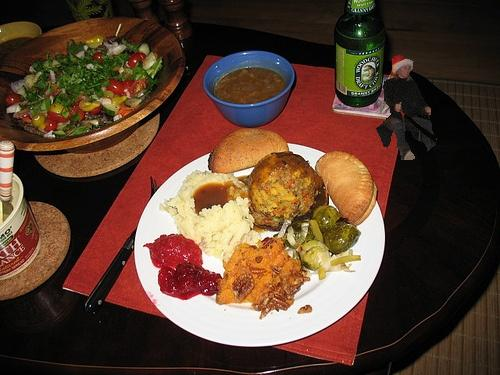tampered: (377, 56, 436, 160)
